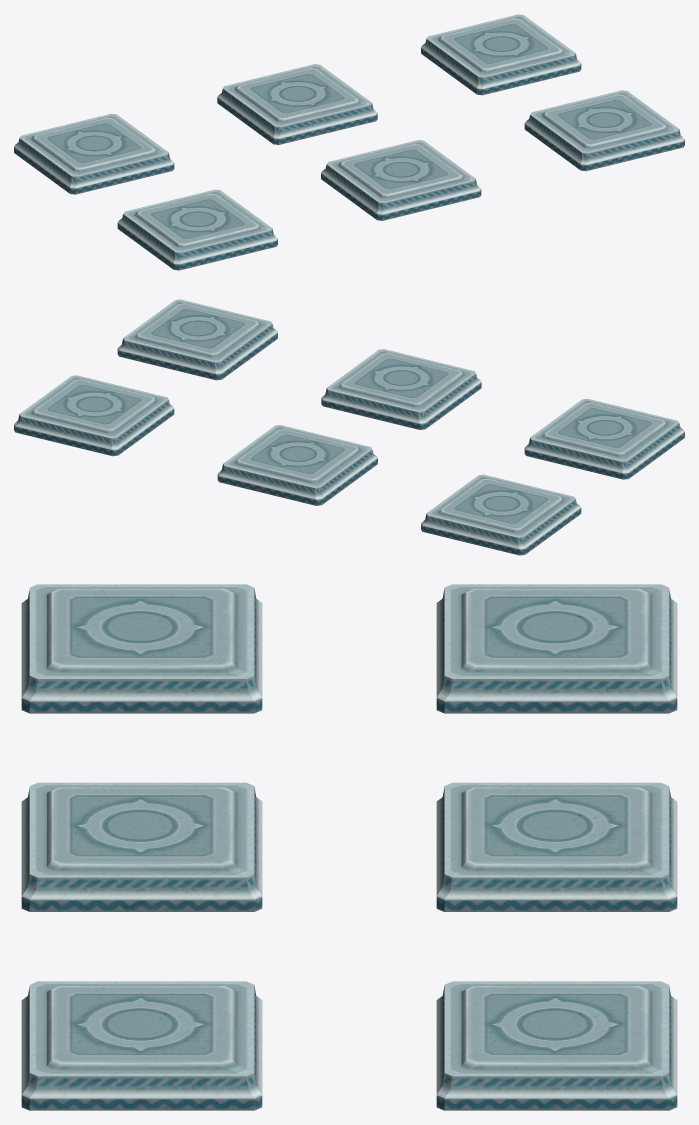
Rendered from shendian_juesefangzhitai.FBX.
3 renders of one model, top to bottom at view 1: azimuth 30°, elevation 25°; view 2: azimuth 150°, elevation 25°; view 3: azimuth 270°, elevation 25°, orthographic. The views are drawn at different scales.
Visible parts, largest first — view 1: shendian_zhiwu_1; view 2: shendian_zhiwu_1; view 3: shendian_zhiwu_1.
Boxes of the visible parts, box(x1,y1,x2,y2) form: shendian_zhiwu_1: box(14, 14, 684, 270); shendian_zhiwu_1: box(14, 299, 684, 555); shendian_zhiwu_1: box(21, 584, 677, 1110).
Bounding box in the file's own units: 1472 × 48.75 × 817.
